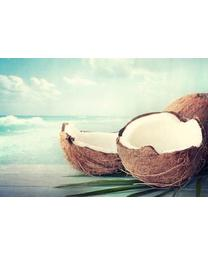coconut: (120, 110, 206, 189), (57, 113, 133, 176)
